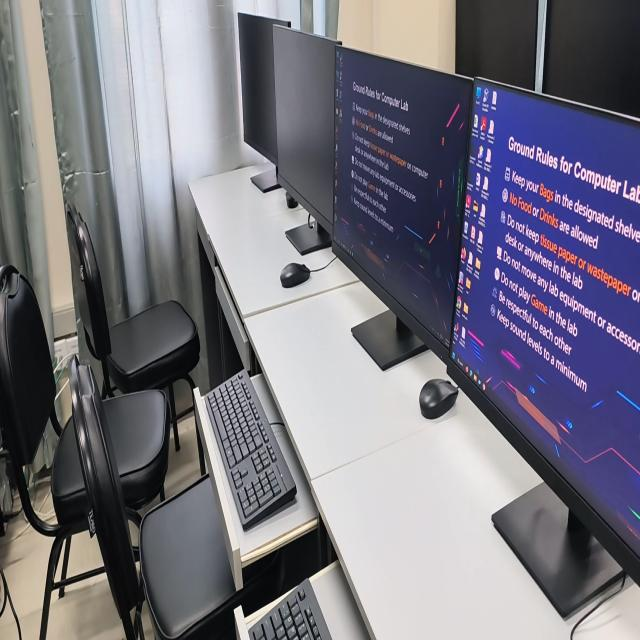Chair: (70, 360, 237, 639), (66, 206, 200, 450), (0, 262, 93, 540), (83, 362, 171, 511)
Keyboard: (205, 370, 296, 530), (249, 578, 331, 639)
Monitor: (451, 79, 640, 617), (333, 48, 469, 370), (273, 25, 336, 254), (543, 0, 640, 117), (238, 12, 291, 192), (456, 0, 537, 88)
Mouse: (419, 379, 458, 419), (280, 263, 311, 287), (286, 192, 298, 208)
